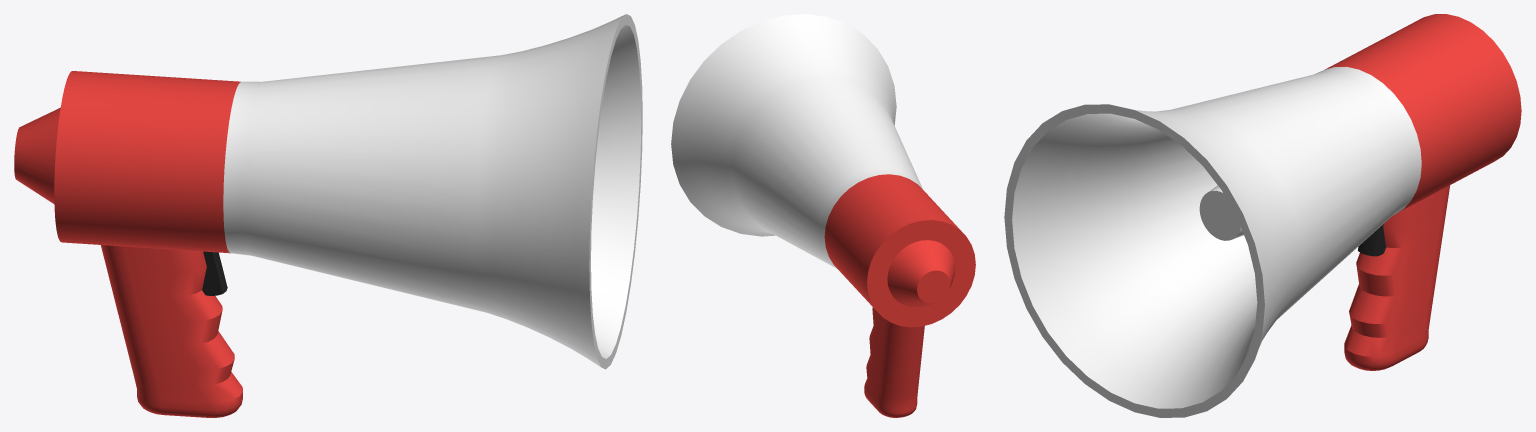
Rendered from loudspeaker.glb.
3 views of the same model, side by side, from view 1: azimuth 30°, elevation 25°; view 2: azimuth 150°, elevation 25°; view 3: azimuth 270°, elevation 25° (orthographic). The views are drawn at different scales.
Visible parts, largest first — view 1: Circle.2548; view 2: Circle.2548; view 3: Circle.2548.
Boxes of the visible parts, x1,y1,x2,y2 form: Circle.2548: (14, 14, 642, 417); Circle.2548: (671, 14, 975, 417); Circle.2548: (1004, 14, 1521, 417).
Bounding box in the file's own units: 2.29 × 1.71 × 2.11.
1 material, 1 textured.
